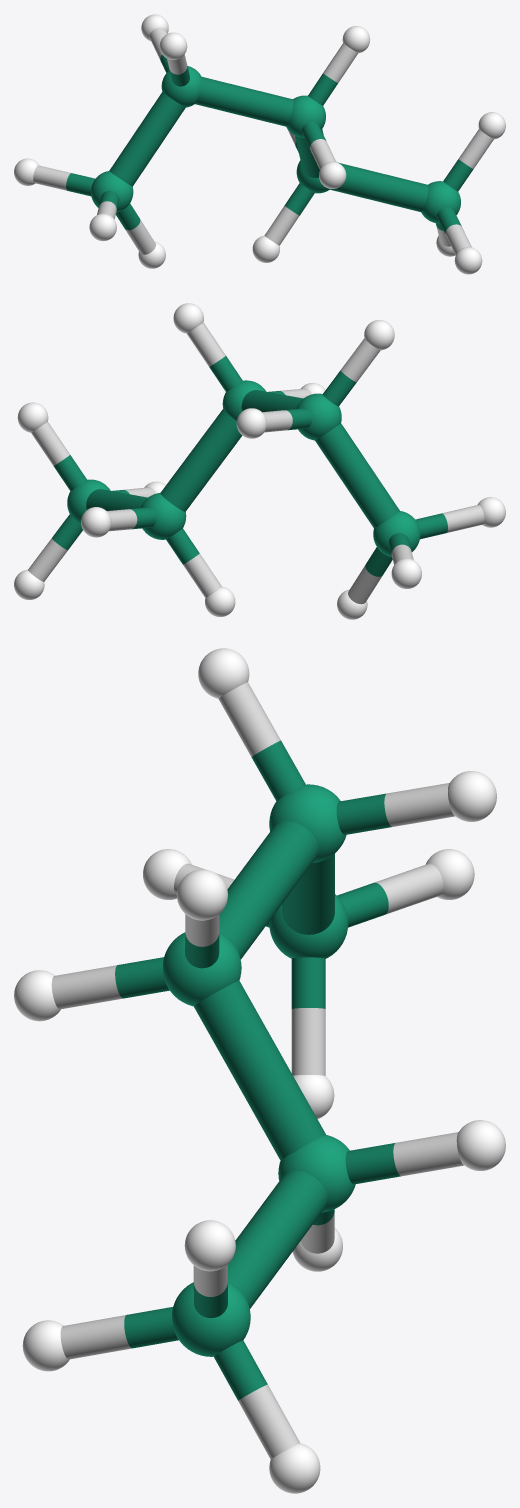
File: molstar-model.gltf
3 views of the same model, one above another, from view 1: azimuth 30°, elevation 25°; view 2: azimuth 150°, elevation 25°; view 3: azimuth 270°, elevation 25° (orthographic). The views are drawn at different scales.
Parts seen in each view (by area): view 1: Node #1, Node #0; view 2: Node #1, Node #0; view 3: Node #1, Node #0.
Boxes of the visible parts, left/top/right/bottom form: Node #1: left=33, top=27, right=493, bottom=255; Node #0: left=14, top=14, right=505, bottom=274; Node #1: left=28, top=322, right=484, bottom=604; Node #0: left=14, top=303, right=505, bottom=619; Node #1: left=51, top=682, right=463, bottom=1459; Node #0: left=14, top=648, right=505, bottom=1493.
Size of the model in its own units: 5.87 by 4.07 by 3.17.
